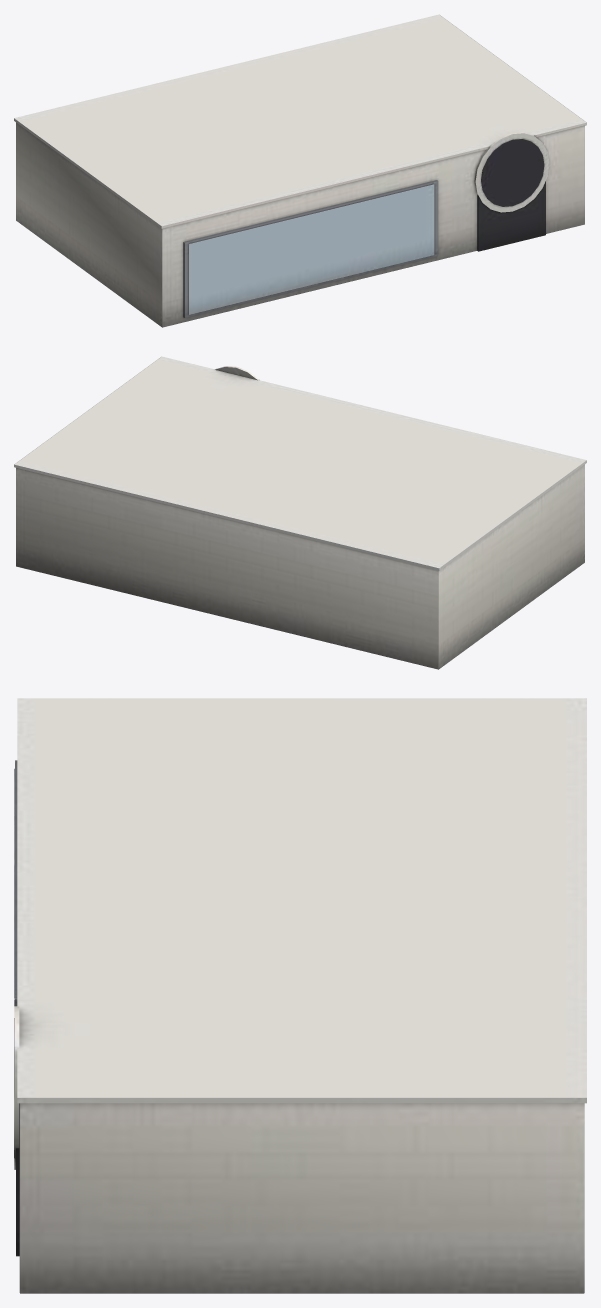
The model's file is bajo_grande.glb.
The picture shows the model from 3 angles, top to bottom: view 1: azimuth 30°, elevation 25°; view 2: azimuth 150°, elevation 25°; view 3: azimuth 270°, elevation 25°; orthographic projection. The views are drawn at different scales.
Parts seen in each view (by area): view 1: bajo_grande; view 2: bajo_grande; view 3: bajo_grande.
Part boxes in pixels (x1,y1,x2,y2): bajo_grande: (14,14,586,327); bajo_grande: (14,356,586,669); bajo_grande: (14,698,586,1293).
Bounding box in the file's own units: 20.1 × 4.95 × 12.17.
1 material, 1 textured.
